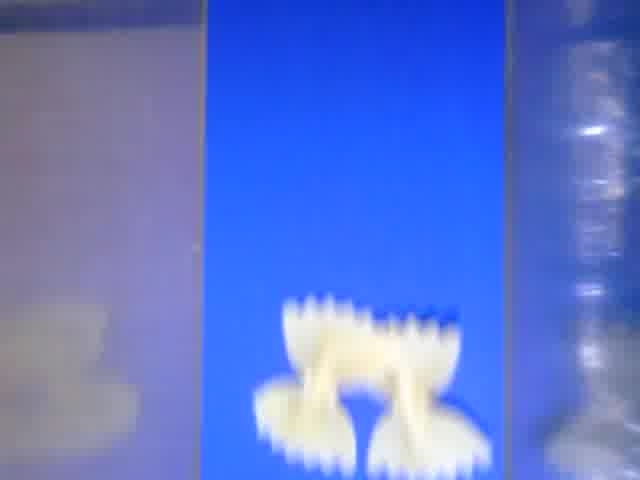farfalle: (257, 296, 382, 471), (365, 316, 494, 476)
